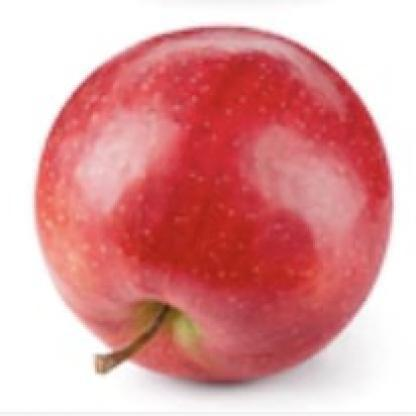apple: (28, 23, 400, 394)
